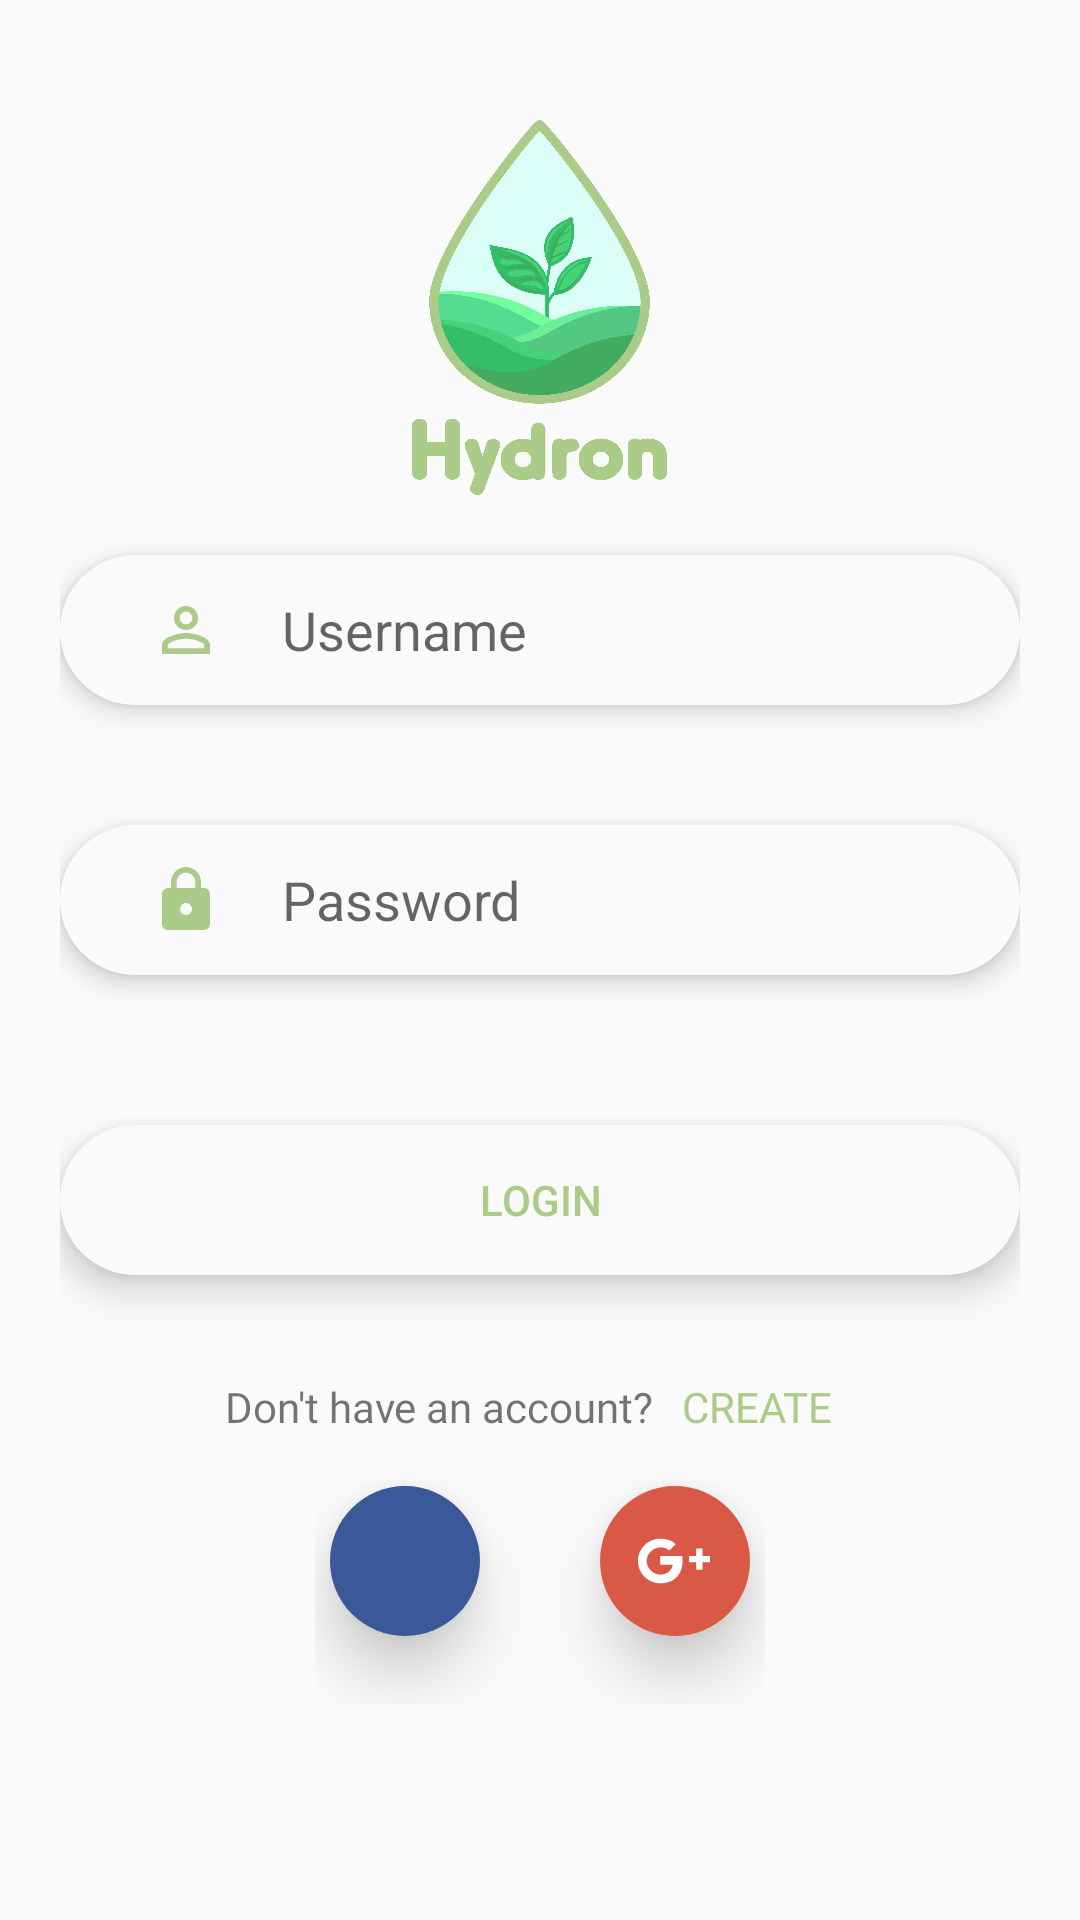

Point at icon controls on the screen. Image size 1080x1920, points as (x=x, y=y).
person: (x=186, y=630)
